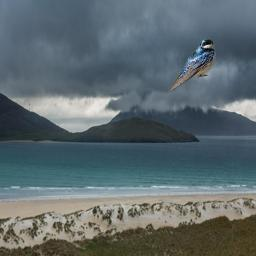Swallow: (169, 37, 216, 92)
